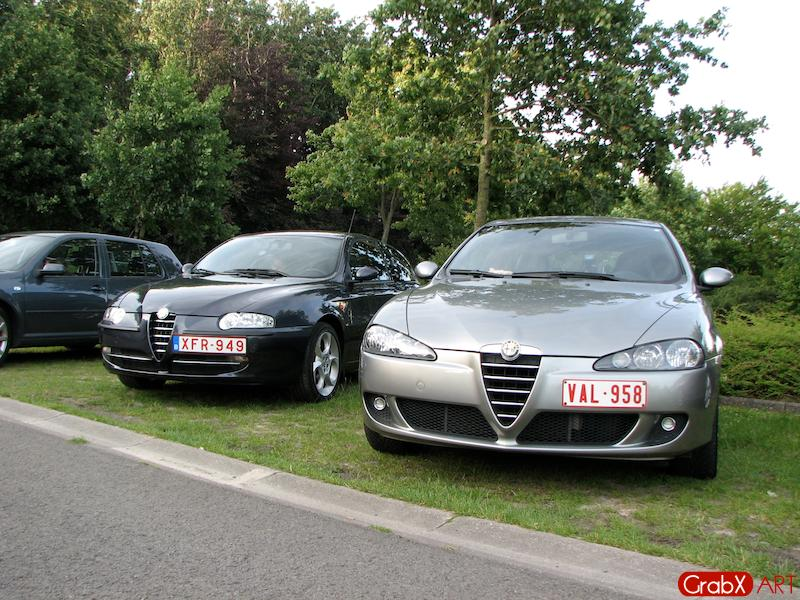windshield: (422, 217, 690, 288), (179, 232, 352, 280)
